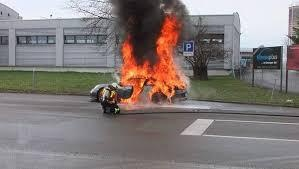fire: (114, 10, 189, 105)
